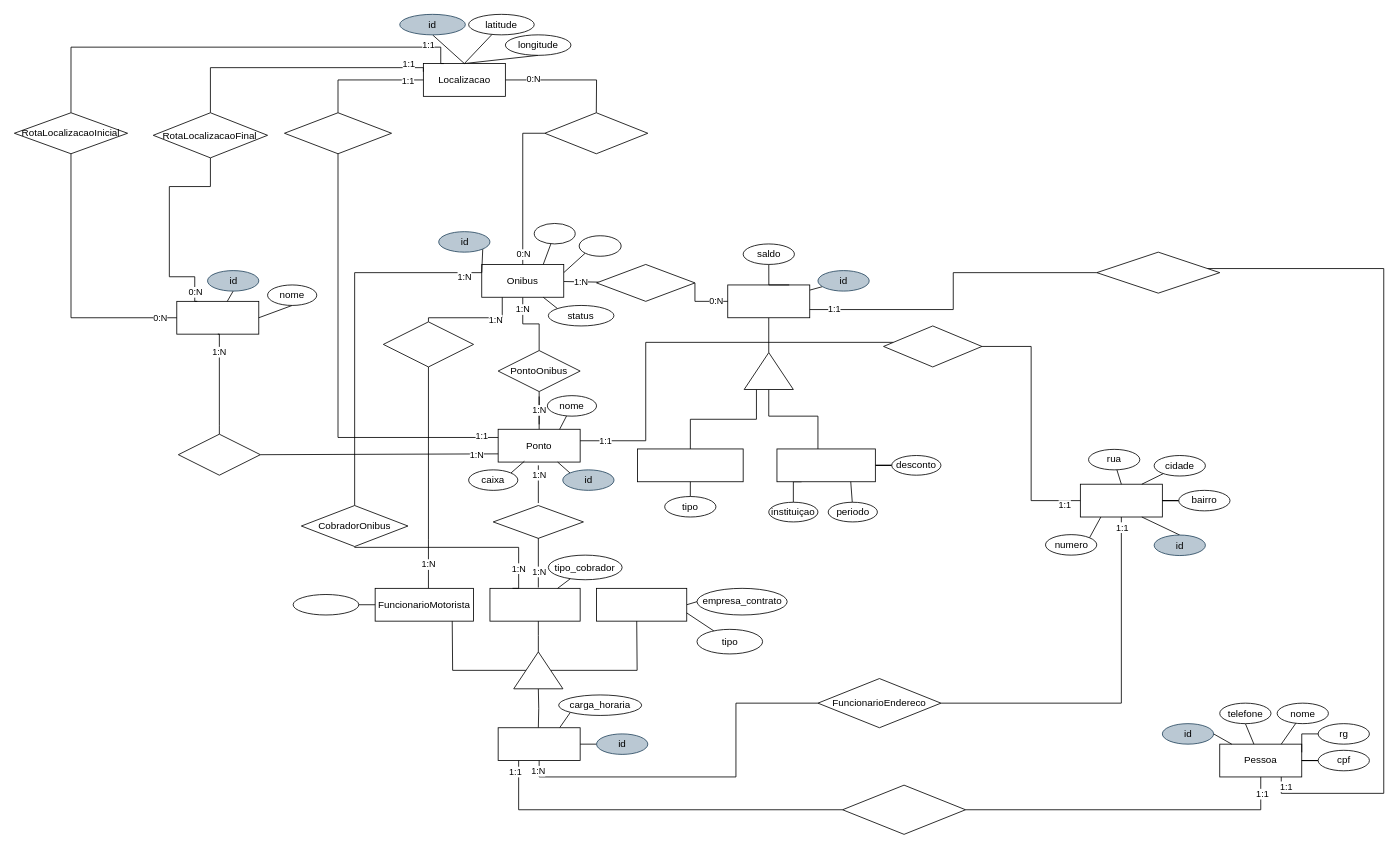
This 1399x849 diagram has some shape labels left out. Each missing label, with the box of its shape:
cnh: (292, 594, 359, 615)
CobradorPonto: (492, 505, 583, 538)
Endereco: (1080, 483, 1162, 517)
Funcionario: (497, 727, 580, 761)
FuncionarioCobrador: (489, 588, 580, 621)
FuncionarioLimpeza: (596, 588, 687, 621)
FuncionarioPessoa: (842, 784, 966, 834)
LocalizacaoOnibus: (544, 112, 648, 154)
LocalizacaoPonto: (284, 112, 392, 154)
marca: (533, 223, 575, 244)
modelo: (578, 235, 621, 256)
MotoristaOnibus: (383, 321, 474, 367)
OnibusPassageiro: (596, 264, 695, 301)
Passageiro: (727, 284, 810, 318)
PassageiroEstudante: (776, 448, 875, 482)
PassageiroPessoa: (1096, 251, 1220, 293)
PassageiroPreferencial: (637, 448, 743, 482)
PontoEndereco: (883, 325, 982, 367)
Rota: (176, 301, 259, 334)
RotaPonto: (178, 433, 260, 475)
